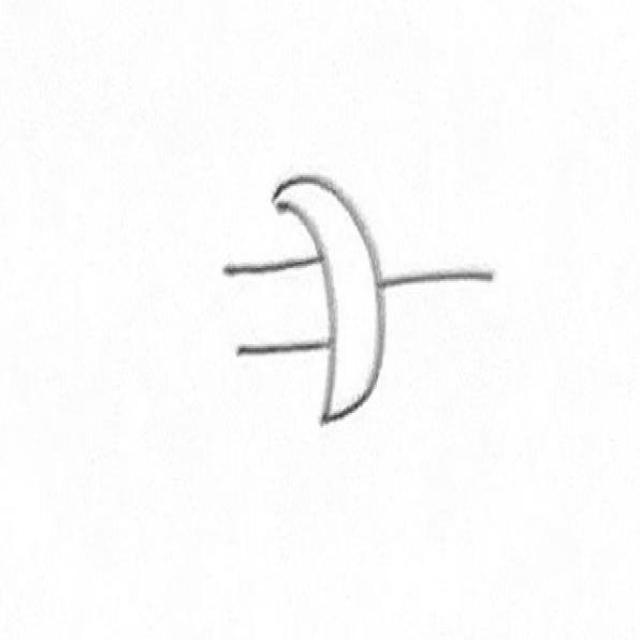OR: (263, 166, 423, 464)
